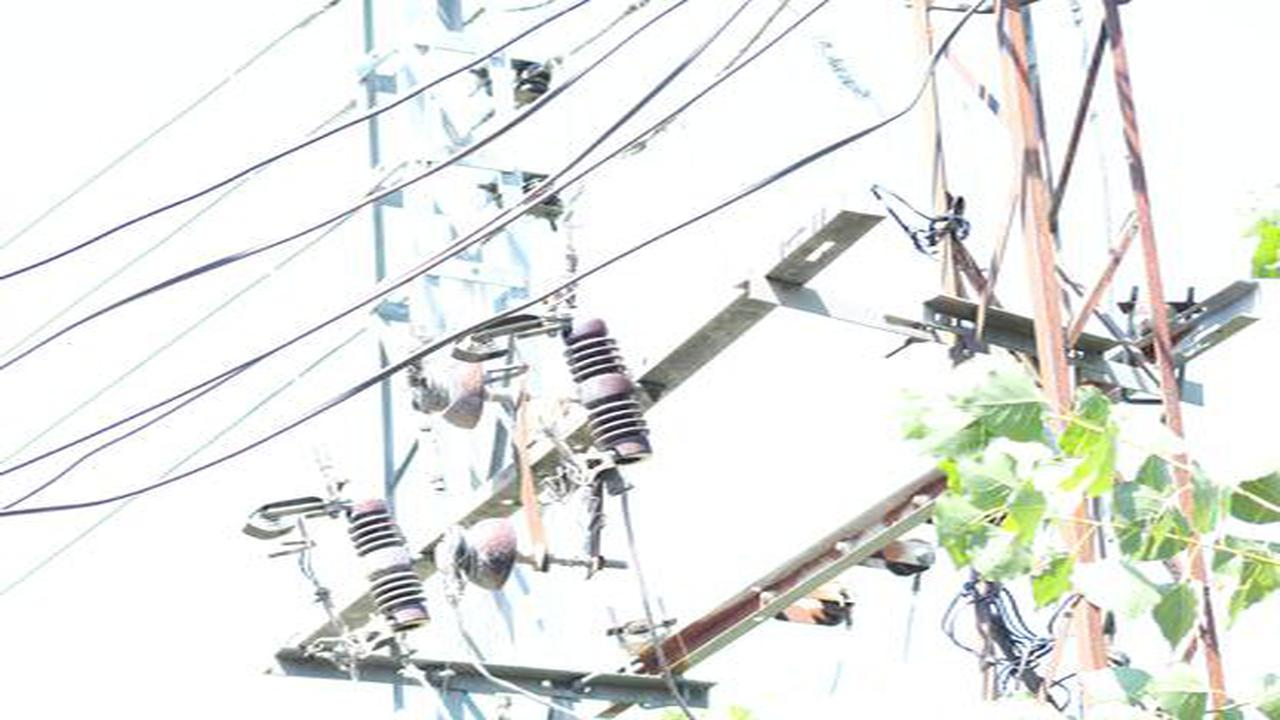insulator_pin: (437, 508, 526, 593), (410, 360, 490, 430)
